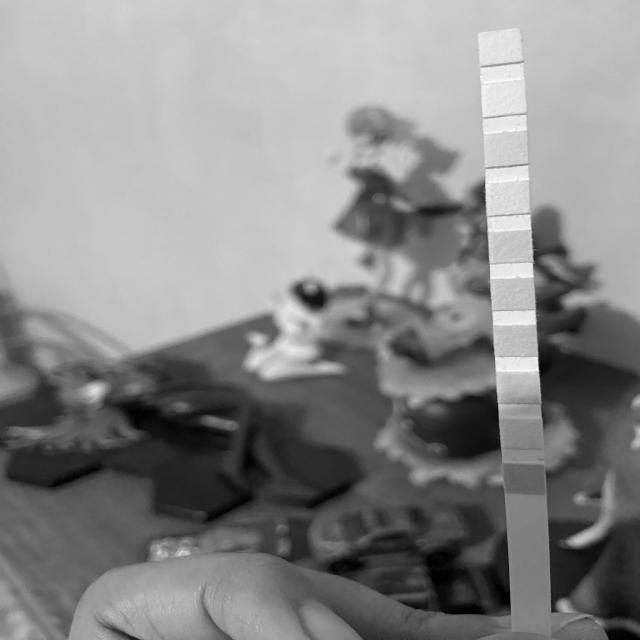Bilirubin: (504, 422, 540, 447)
Blood: (496, 283, 532, 308)
Glucose: (508, 466, 542, 492)
Ketone: (501, 375, 538, 403)
Leukocytes: (481, 35, 518, 60)
Nitrite: (486, 85, 520, 111)
Protein: (490, 185, 526, 212)
SpGravity: (497, 328, 534, 354)
Urobilinogen: (488, 136, 524, 163)
background: (0, 0, 640, 640)
pH: (493, 233, 530, 260)
strip: (478, 29, 551, 632)
